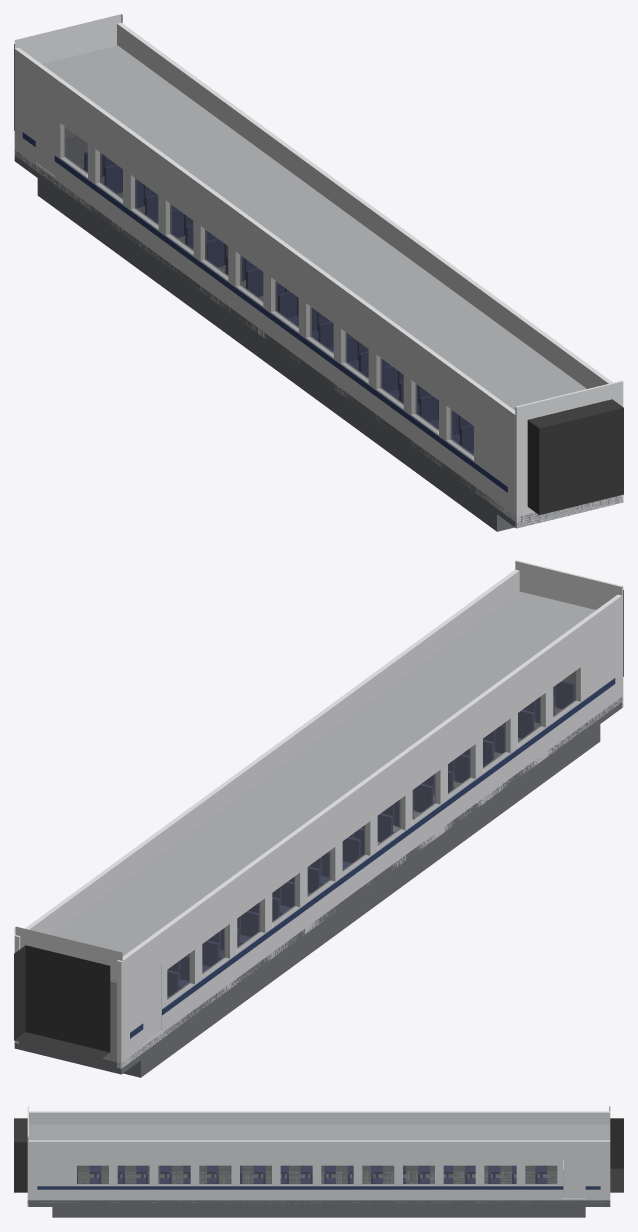
File: tgv_voiture.glb
3 views of the same model, one above another, from view 1: azimuth 30°, elevation 25°; view 2: azimuth 150°, elevation 25°; view 3: azimuth 270°, elevation 25° (orthographic). The views are drawn at different scales.
Visible parts, largest first — view 1: TGV_voiture; view 2: TGV_voiture; view 3: TGV_voiture.
Boxes of the visible parts, x1,y1,x2,y2 form: TGV_voiture: (14,14,623,531); TGV_voiture: (14,560,623,1077); TGV_voiture: (14,1106,623,1217).
Size of the model in its own units: 2.92 by 3.64 by 24.7.
